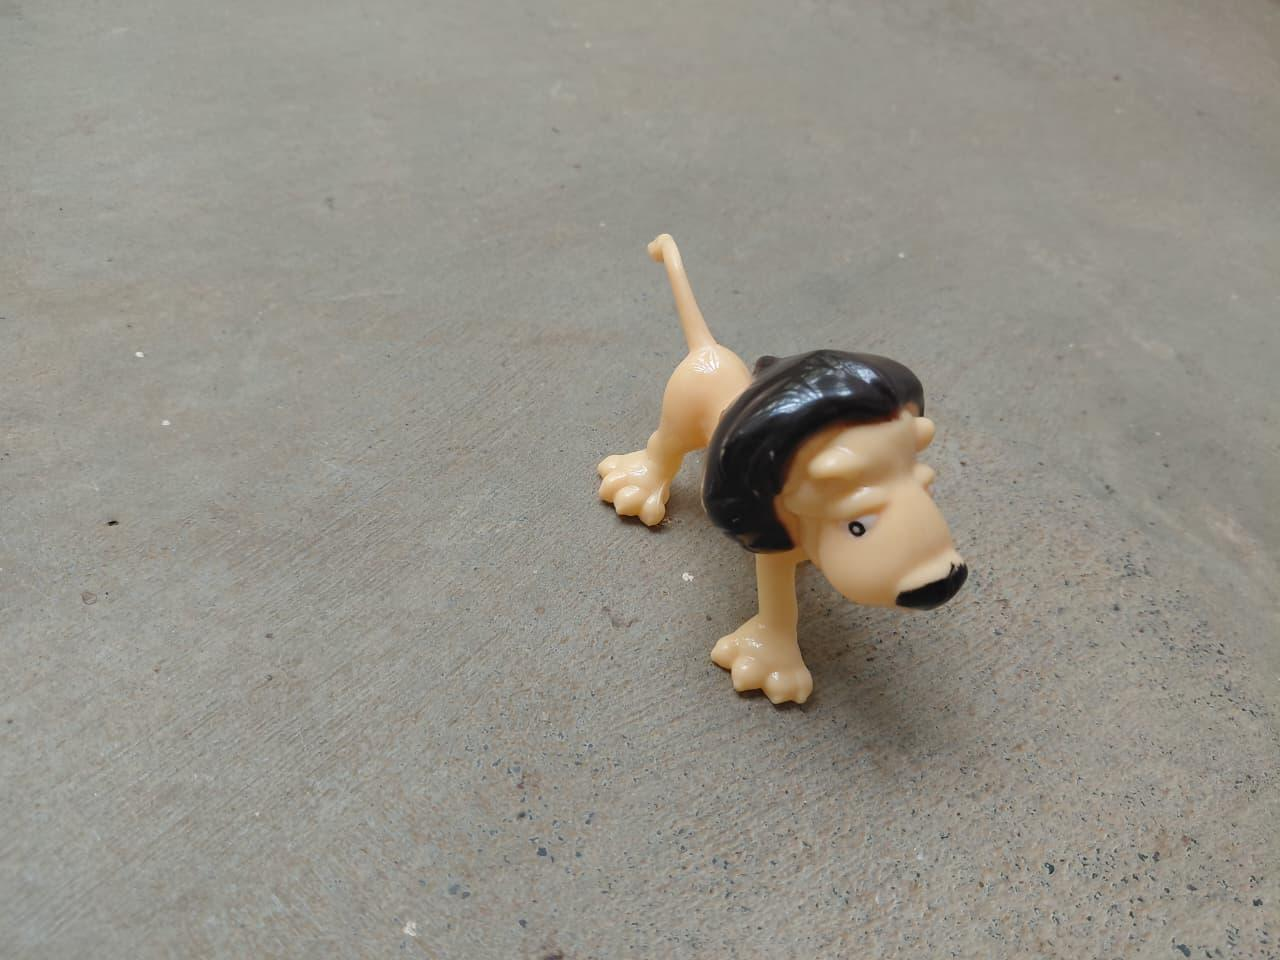lion: (588, 197, 980, 717)
